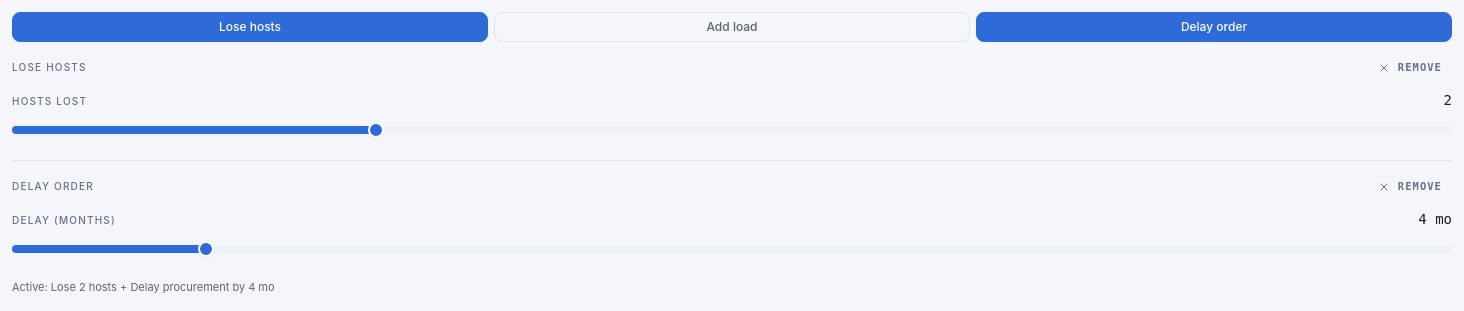
Test: <ScenarioControls> — compound stack (#323) › removes one step via its own Remove control and keeps the rest
This screenshot has width=1464, height=311.
Click the button with test id "scenario-step-remove-lose_hosts" at point(1410, 68), box [1368,54,1452,82]
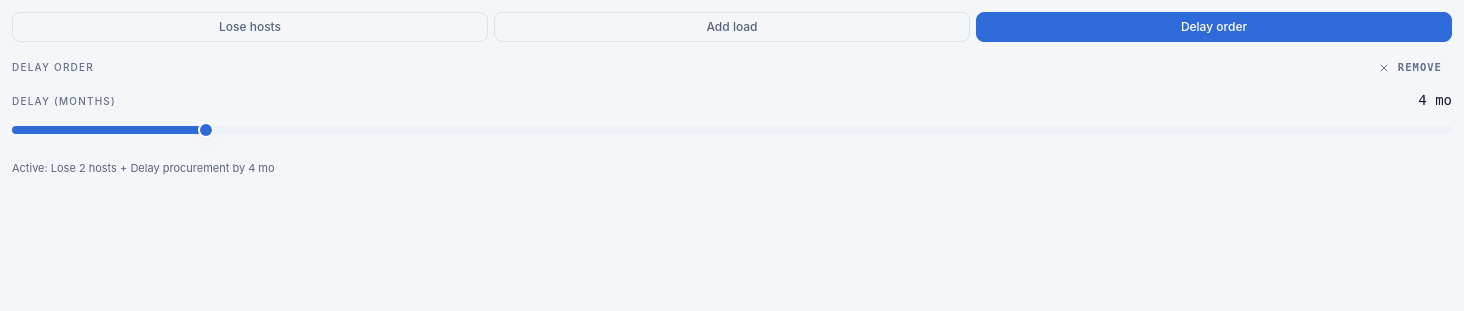
Expected: the slider labelled "Delay (months)" is shown, [12,118,1452,142]
Expected: the label labelled "Hosts lost" is gone
